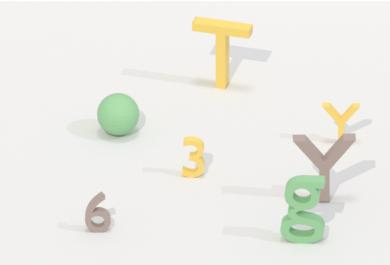0-Tron: (91, 89, 144, 141)
3: (180, 134, 207, 180)
6: (79, 188, 117, 237)
T: (188, 12, 257, 93)
Y: (318, 95, 364, 149)
g: (276, 170, 328, 249)
